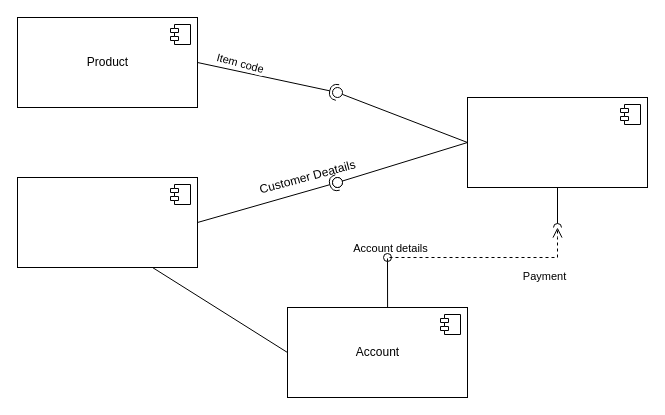
This 665x415 diagram has some shape labels left out. The centre of each missing label's shape, as x and y in pixels:
"Customer" goes at point 107,222.
"Order" goes at point 557,142.
